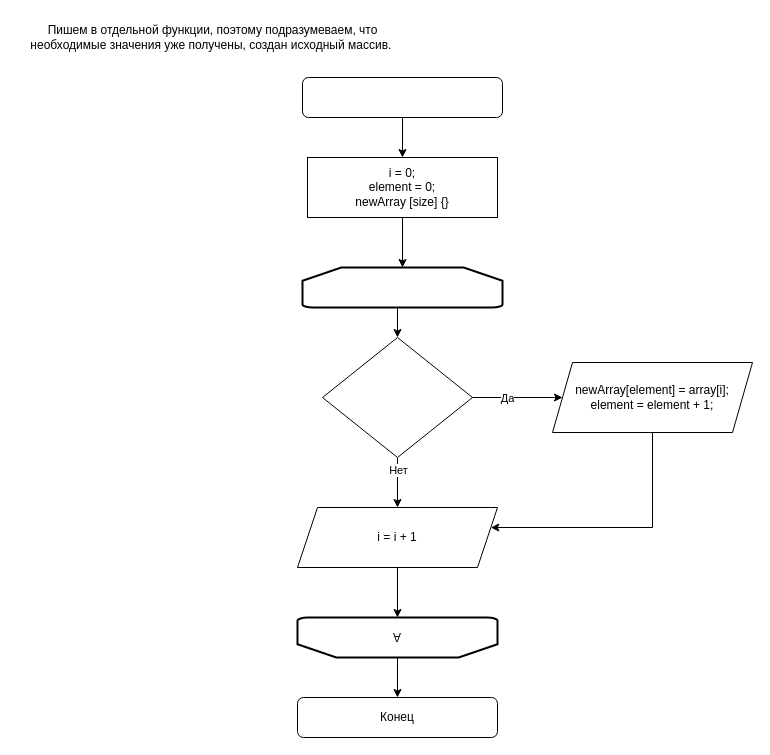
Some shapes in this 770 by 755 pixel diagram are drawn without their labels. Each missing label, with the centre of its shape:
A пока i < length: pixel 402 287
array[i] <= 3 char: pixel 397 397
Начало: pixel 402 97
